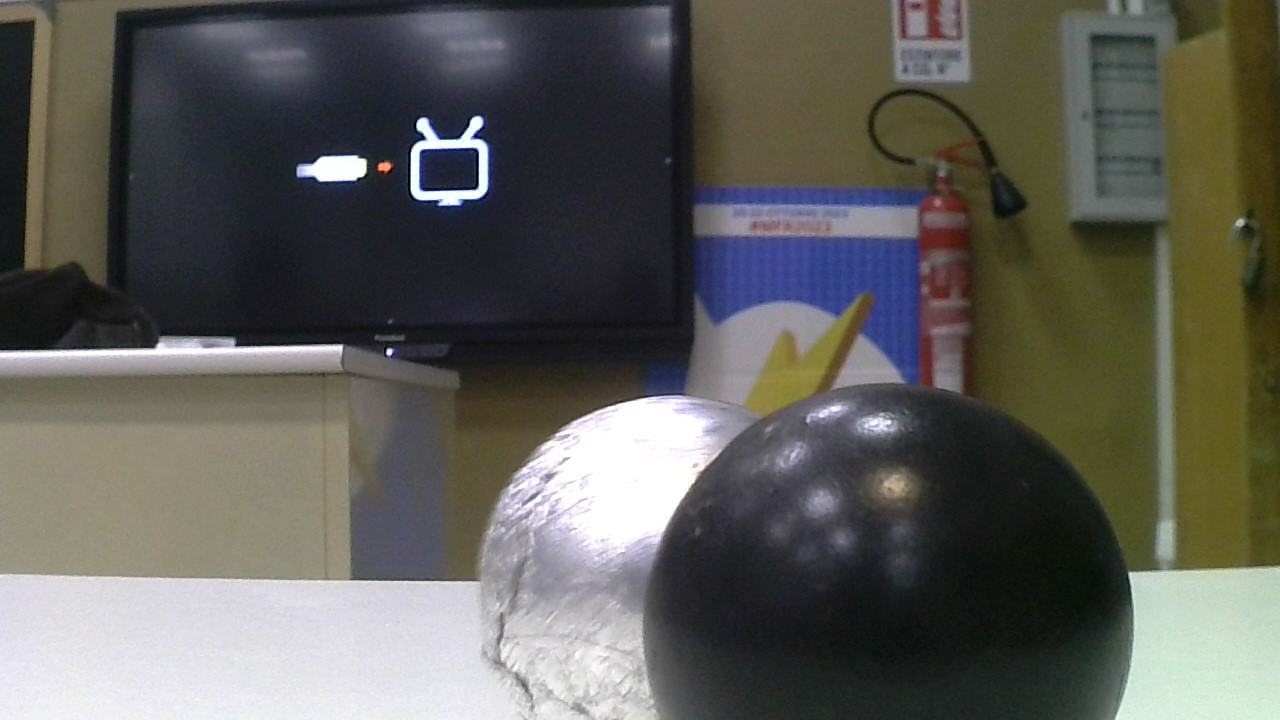black_ball: (636, 387, 1141, 720)
silver_ball: (476, 355, 756, 717)
